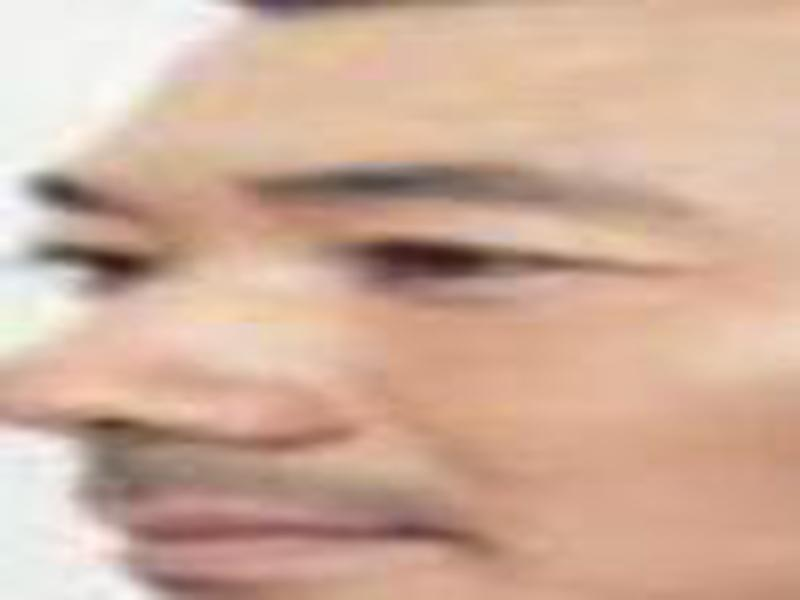without_mask: (1, 10, 800, 600)
